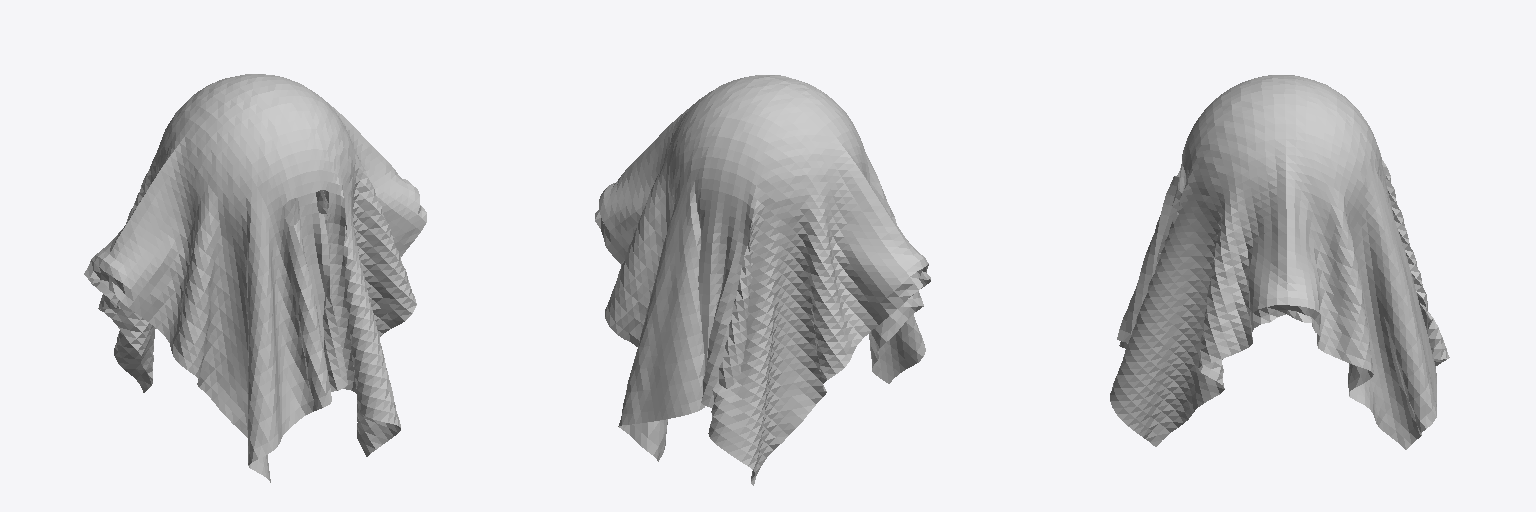
Rendered from ghost.obj.
3 renders of one model, left to right at view 1: azimuth 30°, elevation 25°; view 2: azimuth 150°, elevation 25°; view 3: azimuth 270°, elevation 25°, orthographic.
Parts seen in each view (by area): view 1: Plane_Plane.001; view 2: Plane_Plane.001; view 3: Plane_Plane.001.
Part boxes in pixels (x1,y1,x2,y2): Plane_Plane.001: (84, 74, 426, 482); Plane_Plane.001: (595, 75, 930, 485); Plane_Plane.001: (1110, 75, 1449, 449).
Size of the model in its own units: 3.81 by 3.87 by 3.47.